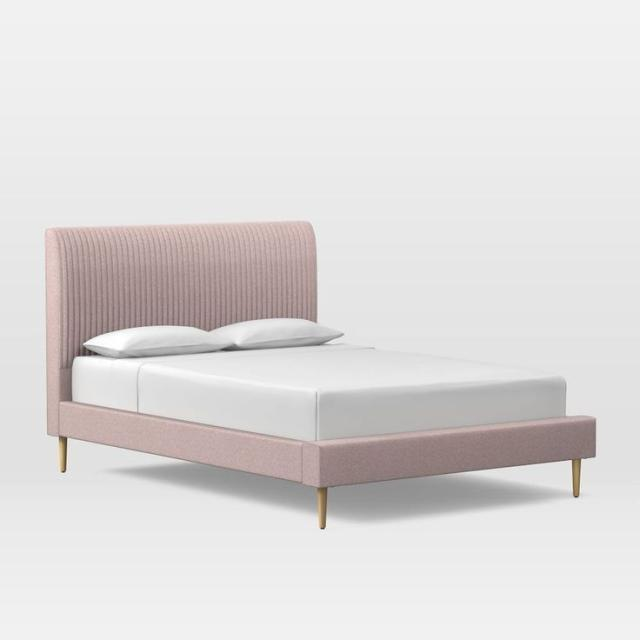obstacle: (44, 218, 596, 530)
